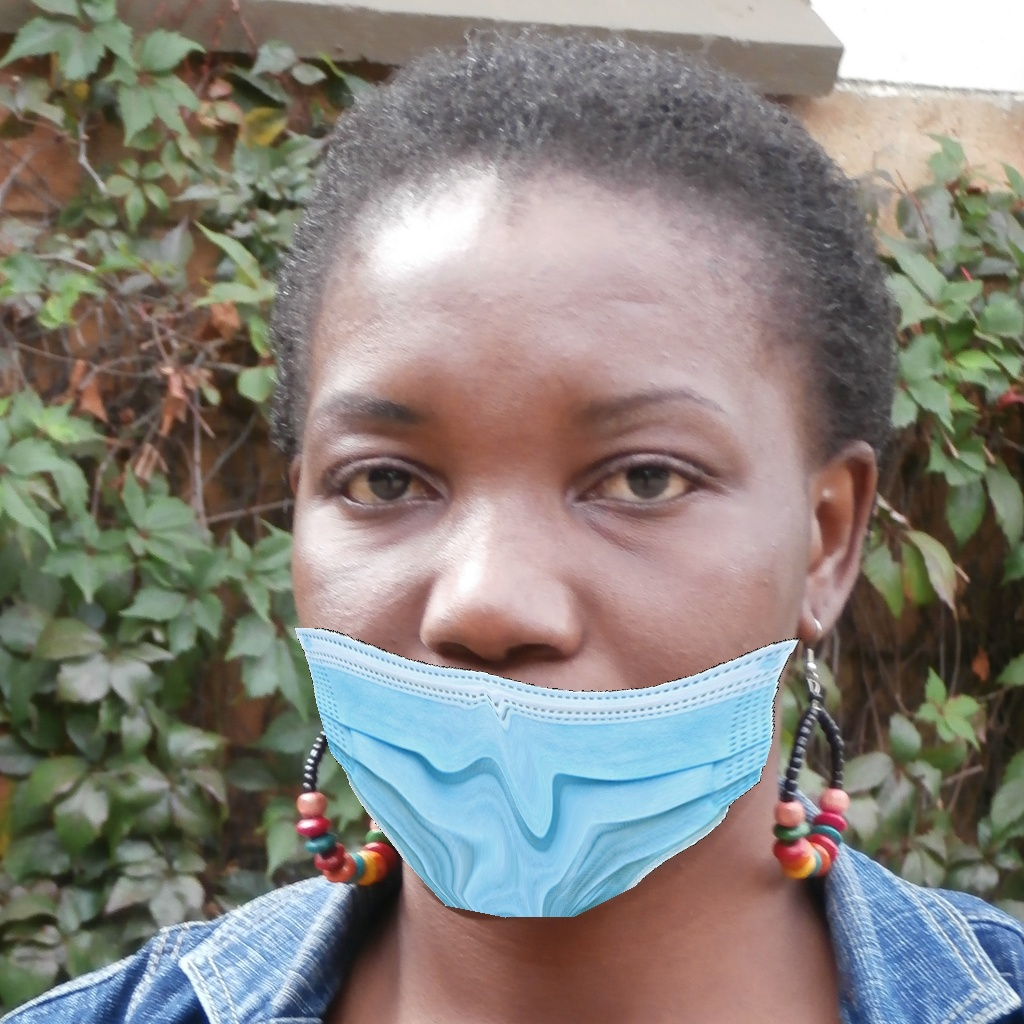mascarilla_mal_puesta: (237, 328, 822, 930)
